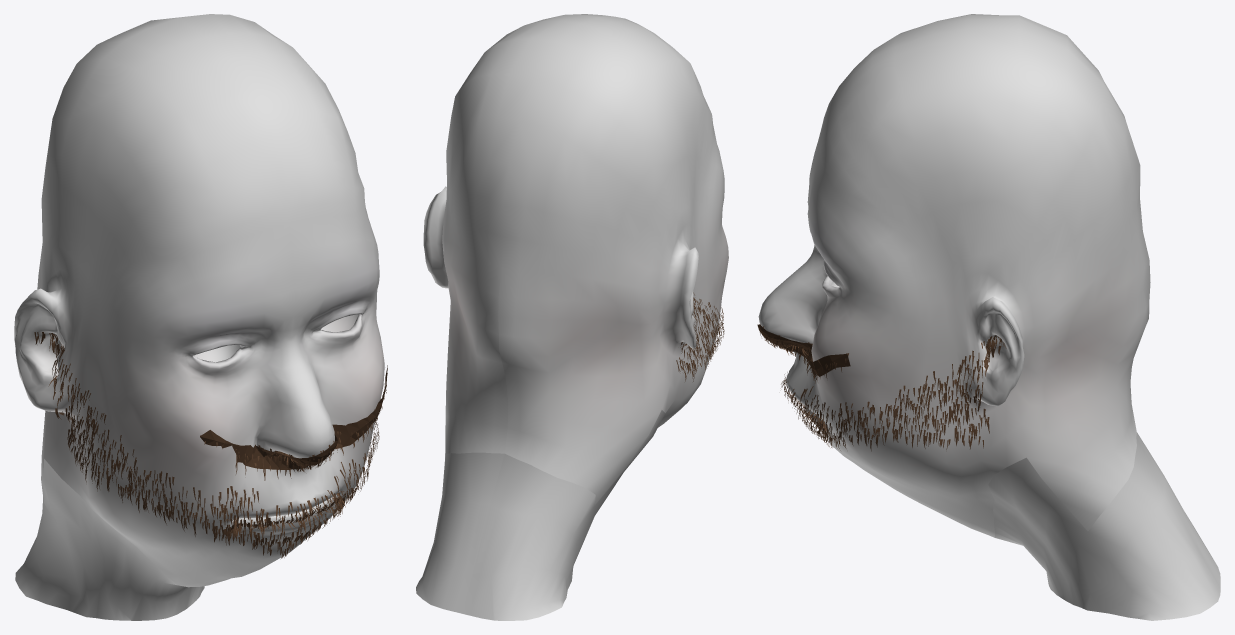
The model's file is outlaw-6.glb.
The picture shows the model from 3 angles, left to right: view 1: azimuth 30°, elevation 25°; view 2: azimuth 150°, elevation 25°; view 3: azimuth 270°, elevation 25°; orthographic projection. The views are drawn at different scales.
Visible parts, largest first — view 1: Sculpted outlaw 6, Salvador's dark whiskers; view 2: Sculpted outlaw 6, Salvador's dark whiskers; view 3: Sculpted outlaw 6, Salvador's dark whiskers.
Boxes of the visible parts, x1,y1,x2,y2 form: Sculpted outlaw 6: [14, 14, 384, 620]; Salvador's dark whiskers: [34, 332, 387, 558]; Sculpted outlaw 6: [416, 14, 728, 620]; Salvador's dark whiskers: [676, 292, 724, 381]; Sculpted outlaw 6: [758, 14, 1220, 620]; Salvador's dark whiskers: [757, 324, 1006, 451].
Size of the model in its own units: 0.1755 by 0.3144 by 0.2383.
